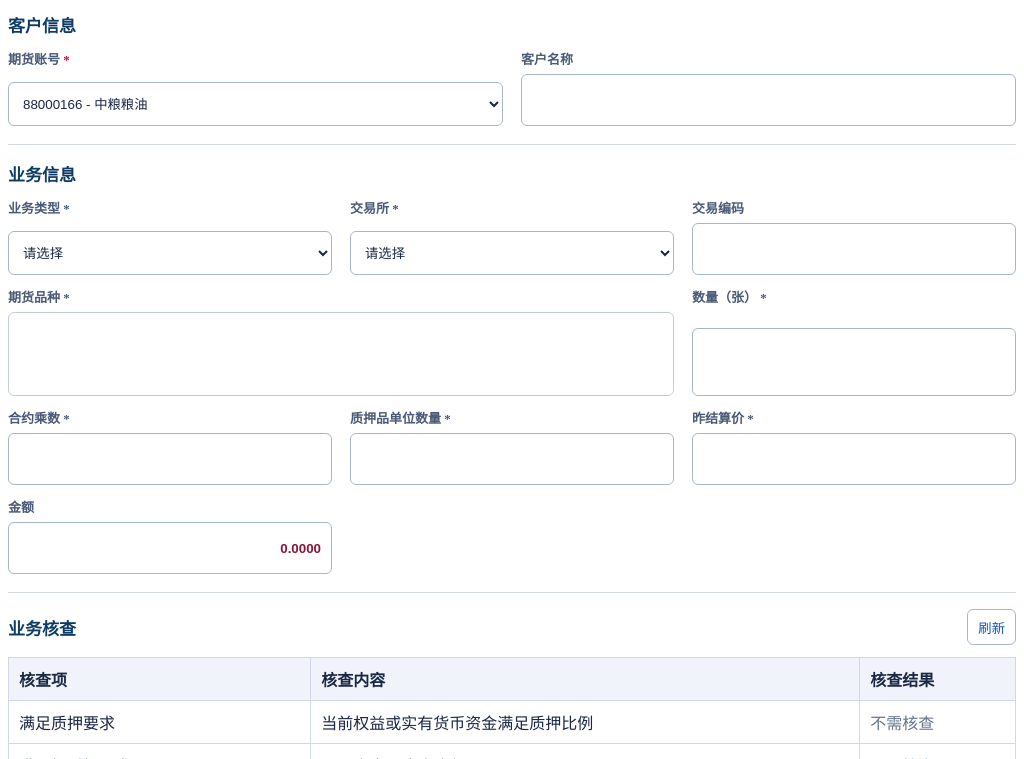
Test case: 仓单、国债（解）质押申请 BusinessForm › shows a stable failure state when a business check refresh fails
Click the button "刷新" at (992, 627), box [967, 609, 1016, 645]
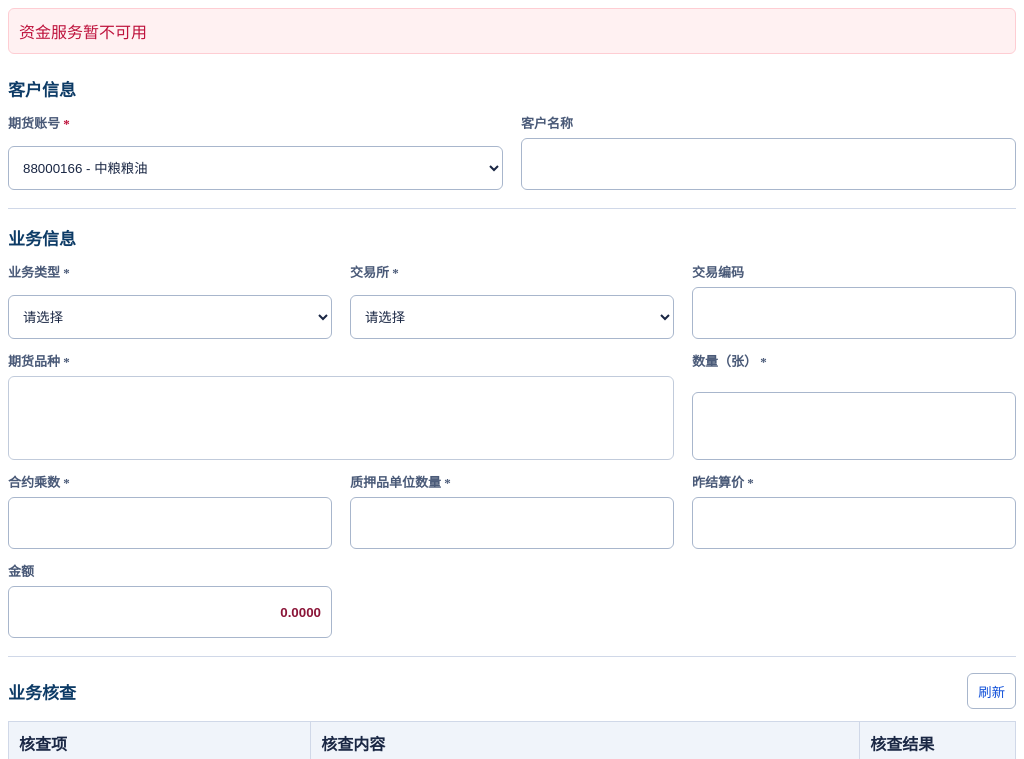
Expected: the message "资金服务暂不可用" is shown, [8, 8, 1016, 54]
